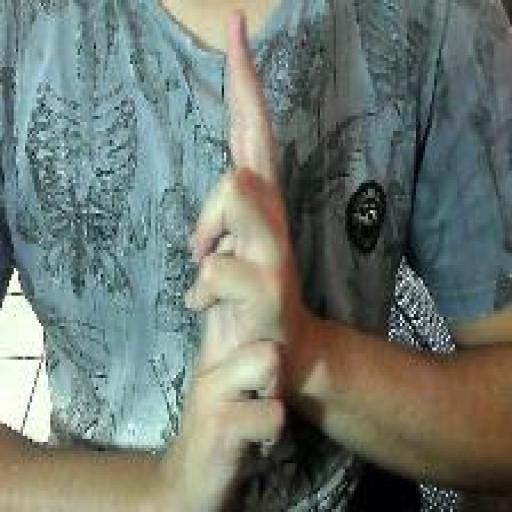Hitsuji -ram-: (182, 6, 296, 509)
